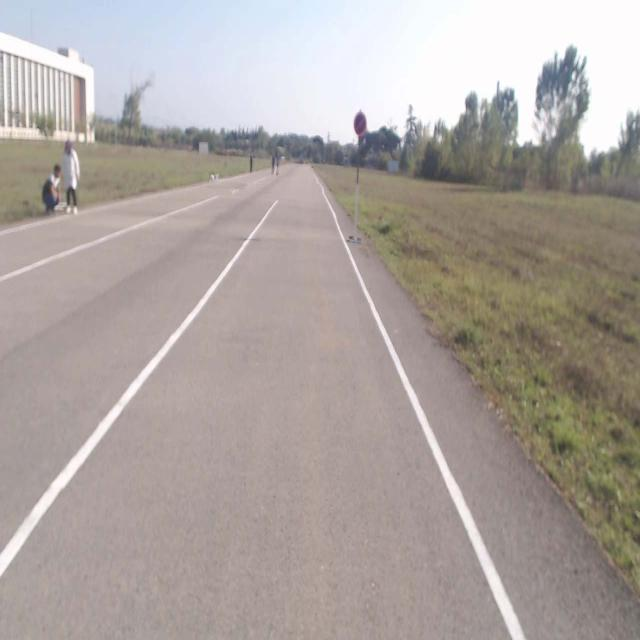parkyasak: (354, 113, 366, 134)
